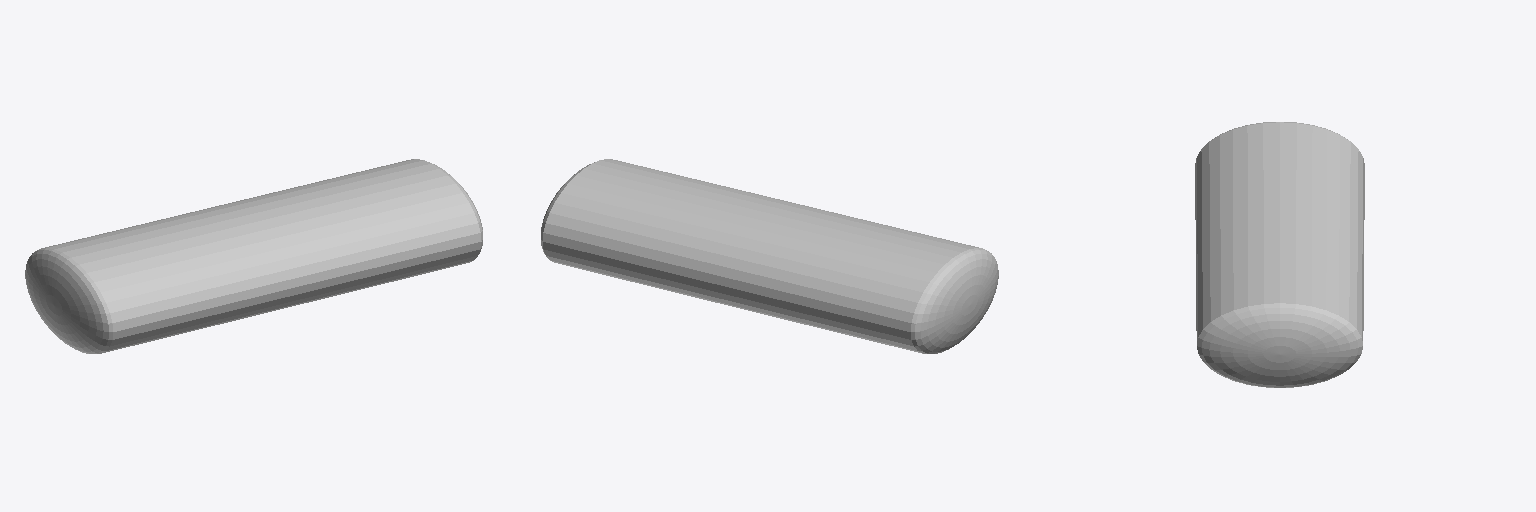
Rendered from bulletWide v0.4.obj.
The picture shows the model from 3 angles: view 1: azimuth 30°, elevation 25°; view 2: azimuth 150°, elevation 25°; view 3: azimuth 270°, elevation 25°; orthographic projection.
Visible parts, largest first — view 1: Sphere; view 2: Sphere; view 3: Sphere.
Boxes of the visible parts, <box> form: Sphere: <box>25,159,482,353</box>; Sphere: <box>541,159,998,353</box>; Sphere: <box>1195,122,1364,387</box>.
Bounding box in the file's own units: 5.49 × 1.12 × 2.